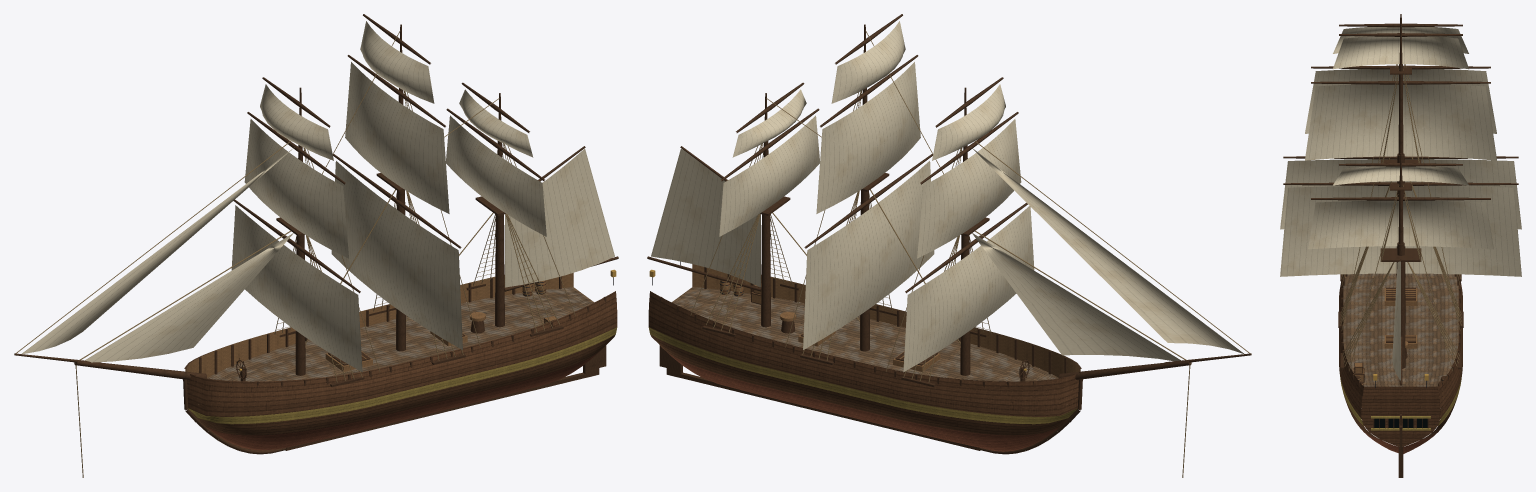
File: SM_Art_HarlowMerchantShip.gltf
The picture shows the model from 3 angles, left to right: view 1: azimuth 30°, elevation 25°; view 2: azimuth 150°, elevation 25°; view 3: azimuth 270°, elevation 25°; orthographic projection. The views are drawn at different scales.
Parts seen in each view (by area): view 1: SM_Art_HarlowMerchantShip; view 2: SM_Art_HarlowMerchantShip; view 3: SM_Art_HarlowMerchantShip.
Part boxes in pixels (box(x1,y1,x2,y2)): SM_Art_HarlowMerchantShip: box(14, 14, 618, 477); SM_Art_HarlowMerchantShip: box(647, 14, 1251, 477); SM_Art_HarlowMerchantShip: box(1280, 14, 1521, 477).
Bounding box in the file's own units: 40.88 × 25.71 × 15.41.
11 materials, 9 textured.
